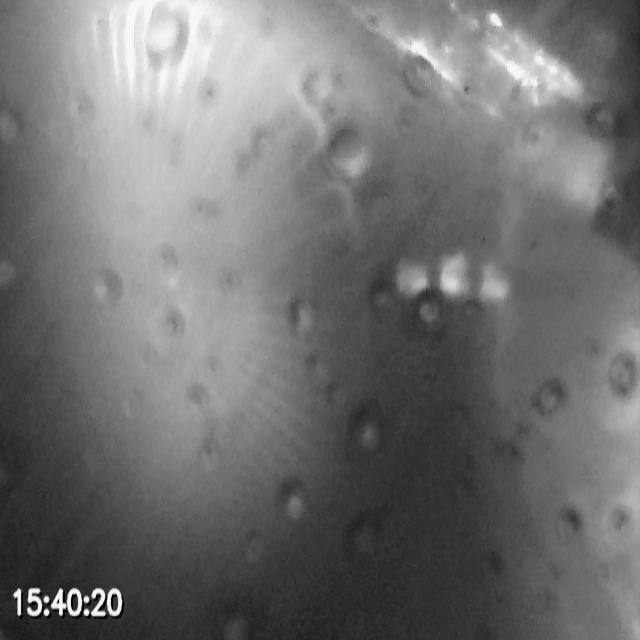white-dots: (393, 251, 512, 304)
